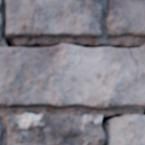brick: (0, 44, 144, 108), (5, 0, 101, 37), (5, 113, 103, 144), (105, 0, 144, 36), (108, 115, 144, 144)
crack: (2, 0, 142, 82), (101, 112, 125, 144), (142, 108, 144, 116)
